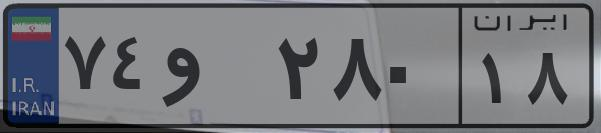0: (385, 28, 445, 110)
1: (475, 38, 525, 113)
2: (270, 28, 330, 110)
4: (110, 28, 158, 98)
7: (57, 26, 110, 100)
8: (330, 28, 385, 110), (525, 38, 570, 115)
و: (158, 20, 270, 120)
